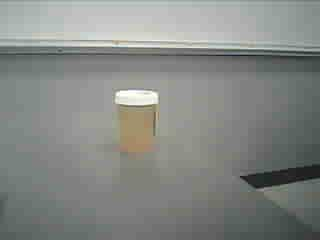Bottle B: (112, 86, 164, 160)
